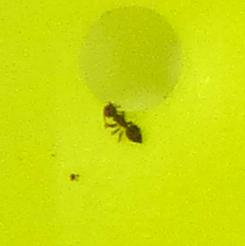Hymenoptera: (100, 100, 145, 146)
